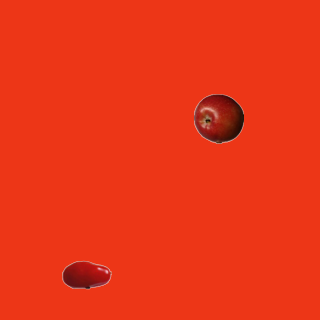Apple Braeburn: (193, 93, 243, 143)
Tomato 2: (61, 249, 111, 299)
